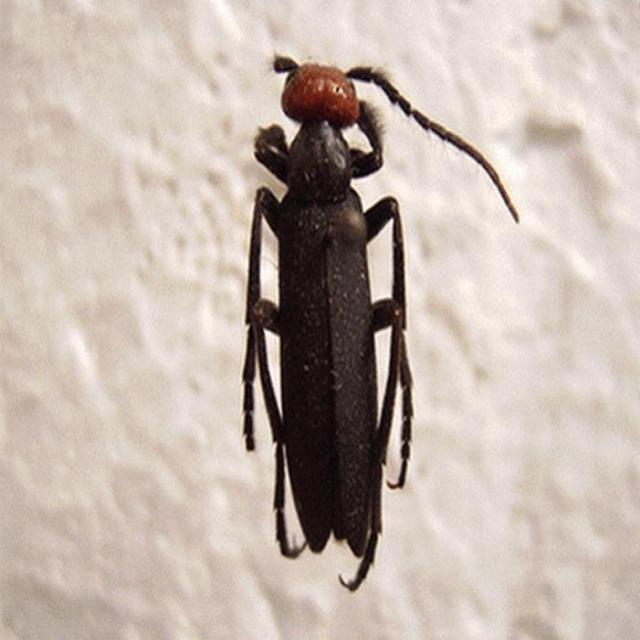BlisterBeetle-Adult-: (192, 37, 517, 607)
